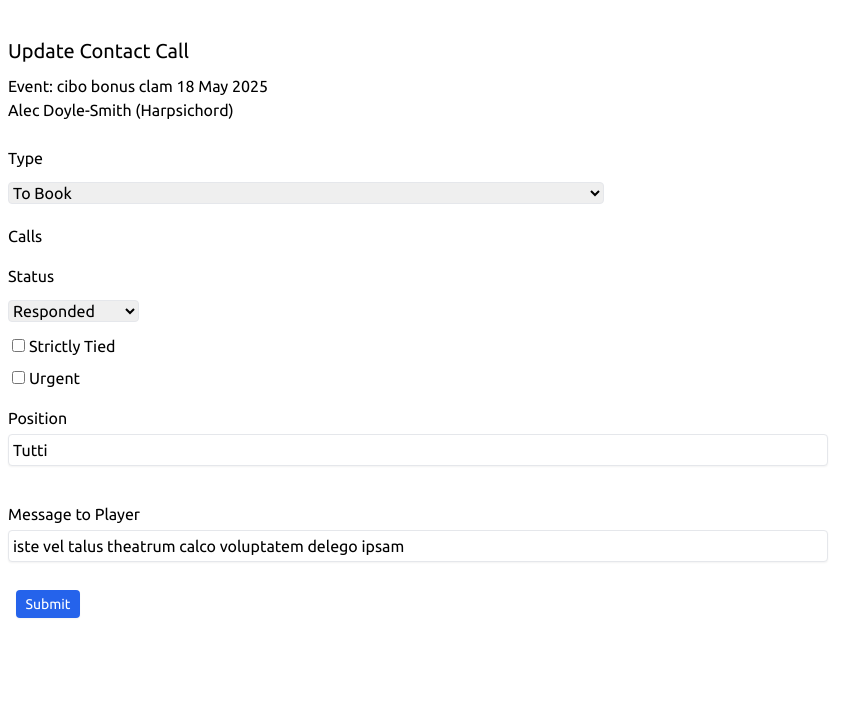
Test: <UpdateContactMessage /> › err messages render on submission fail
Click the button with test id "submit-btn". click: (48, 604)
box: x1=16 y1=590 x2=80 y2=618
(page scrolled)
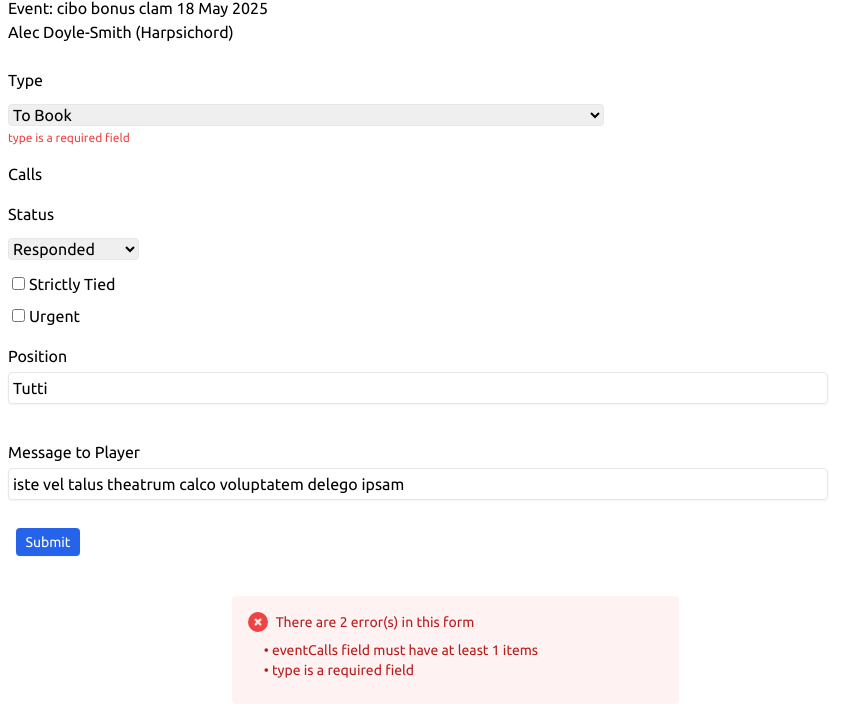
Now the element with test id "validation-error" is shown, box x1=232 y1=596 x2=679 y2=704
